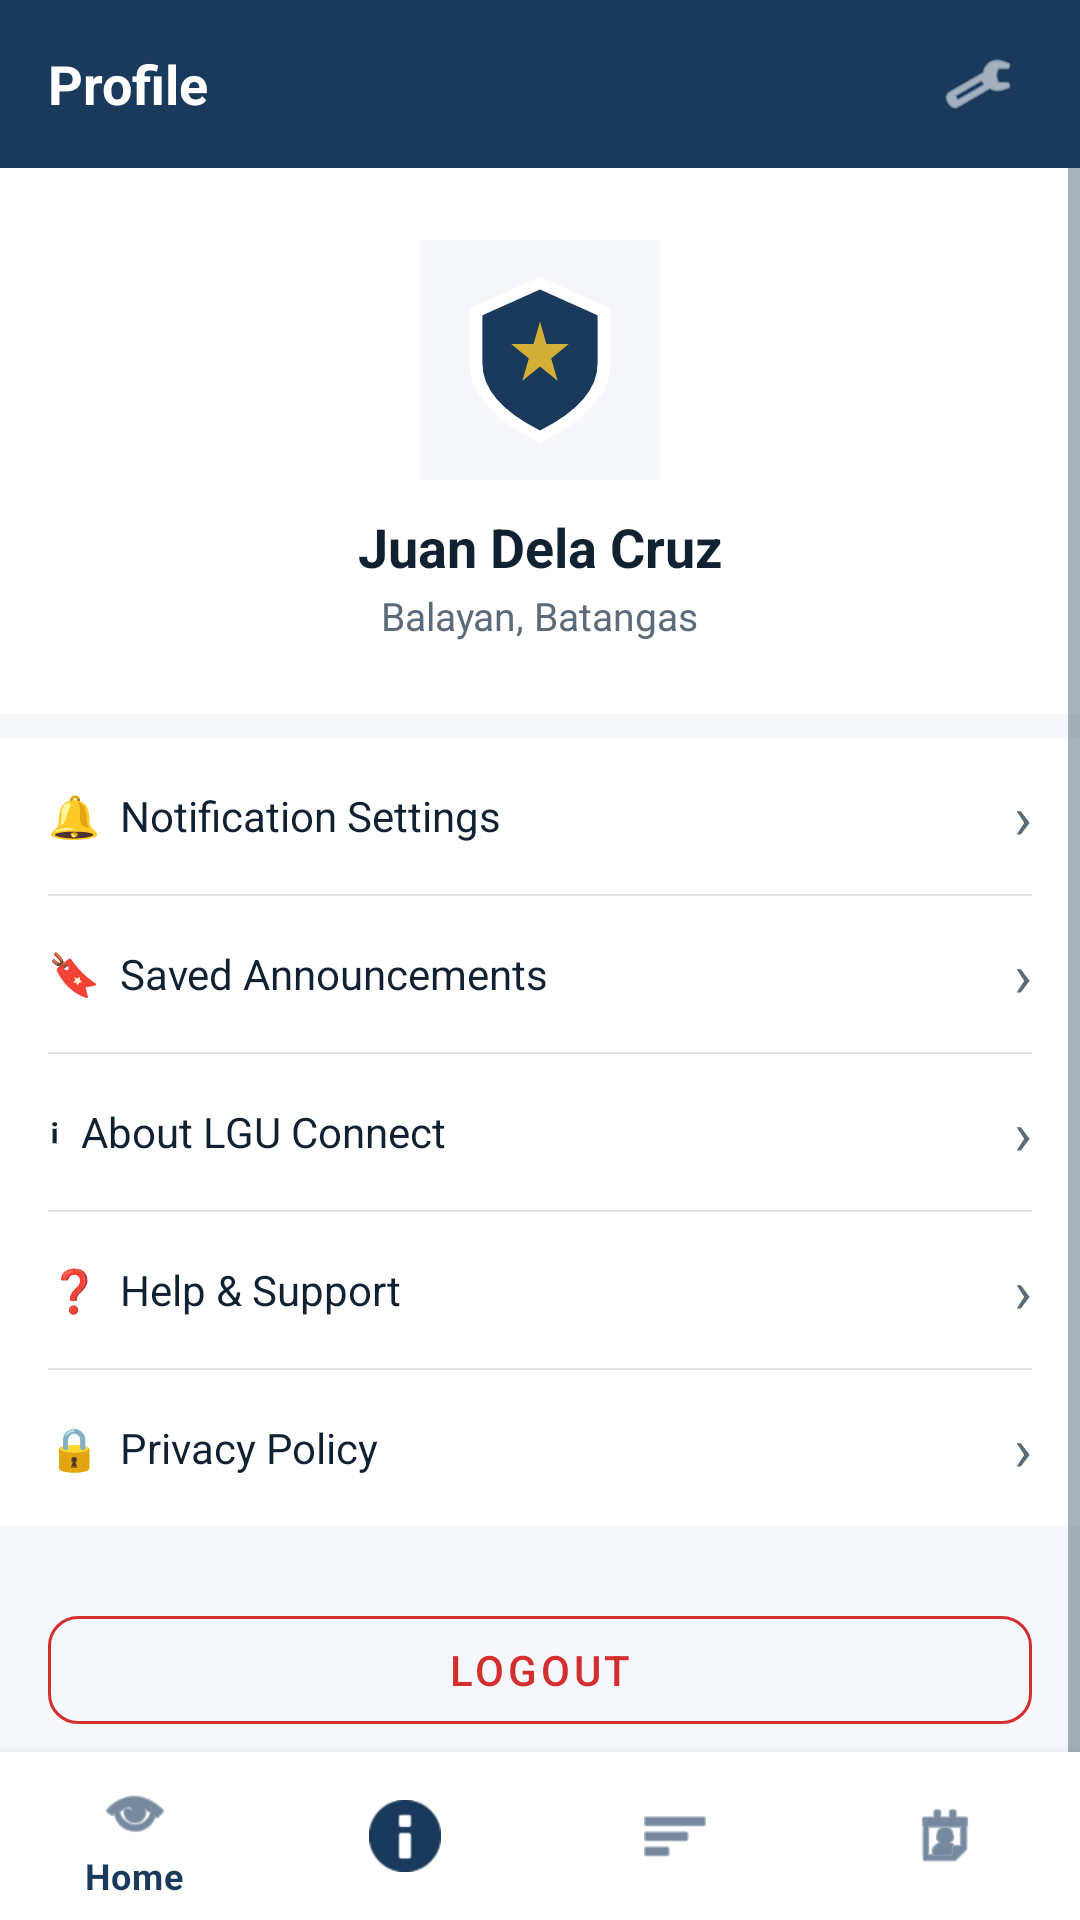

Icon click points for this 1080*1920 phone screenshot, format (x=x, y=y):
lgu shield: (x=540, y=360)
preferences: (x=977, y=84)
